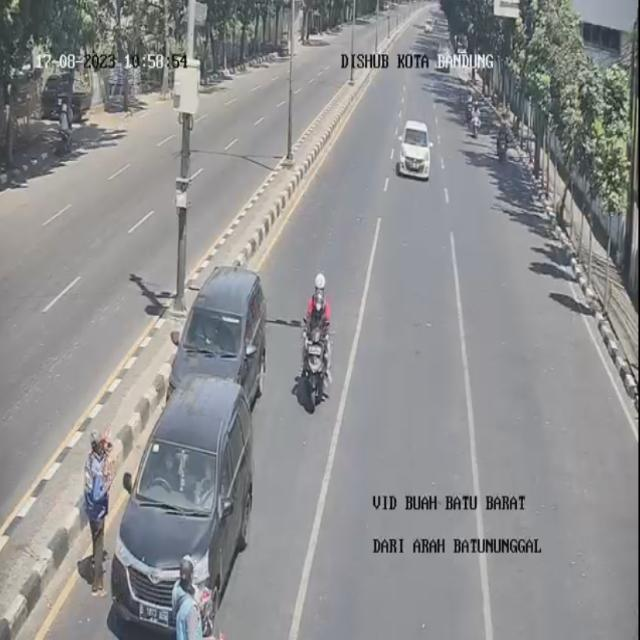cars: (112, 374, 252, 631), (169, 265, 267, 407), (396, 118, 434, 179)
motorcycle: (292, 272, 331, 412), (461, 87, 476, 128), (497, 116, 510, 160), (471, 101, 482, 137)
